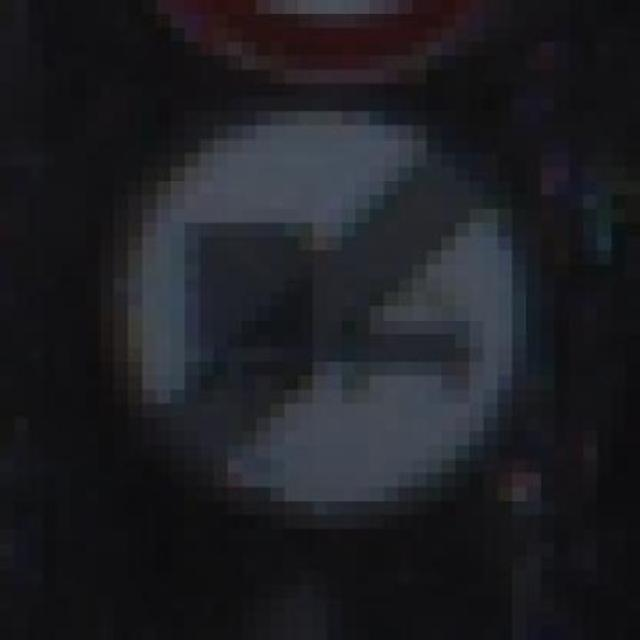Overtaking by trucks is prohibited: (57, 97, 555, 557)
